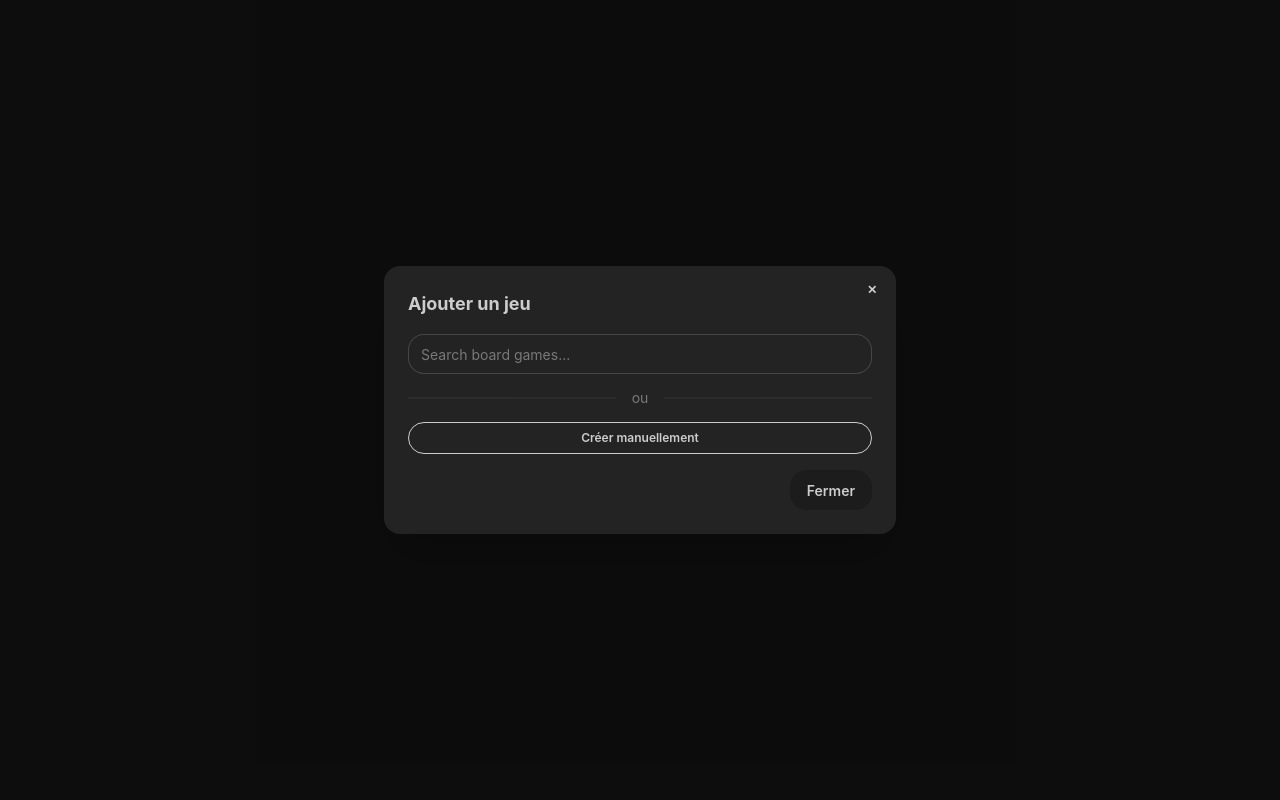
it: AddBoardGameModal › switches to manual mode when Create manually is clicked
Click the button "Créer manuellement".
click(640, 438)  # box [408, 422, 872, 454]
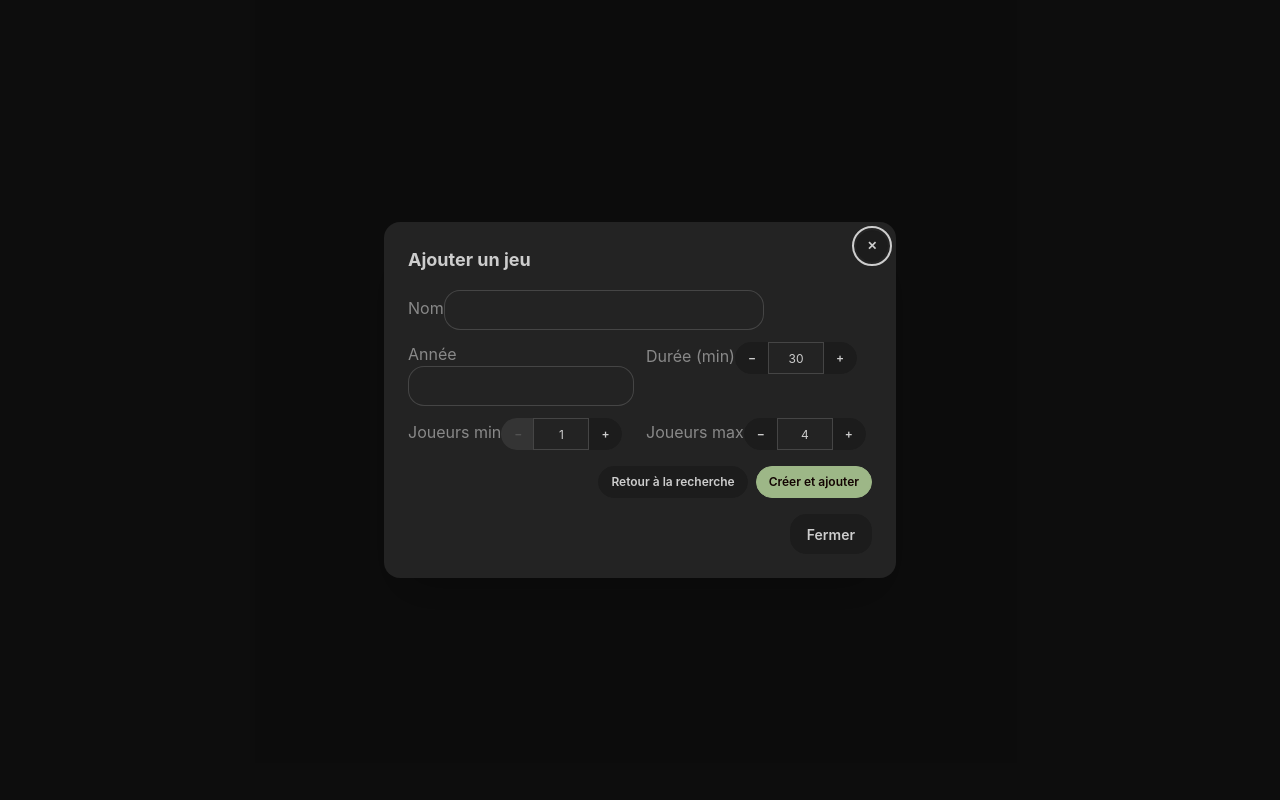
Expected: the field labelled "Nom" is shown, [444, 290, 764, 330]
